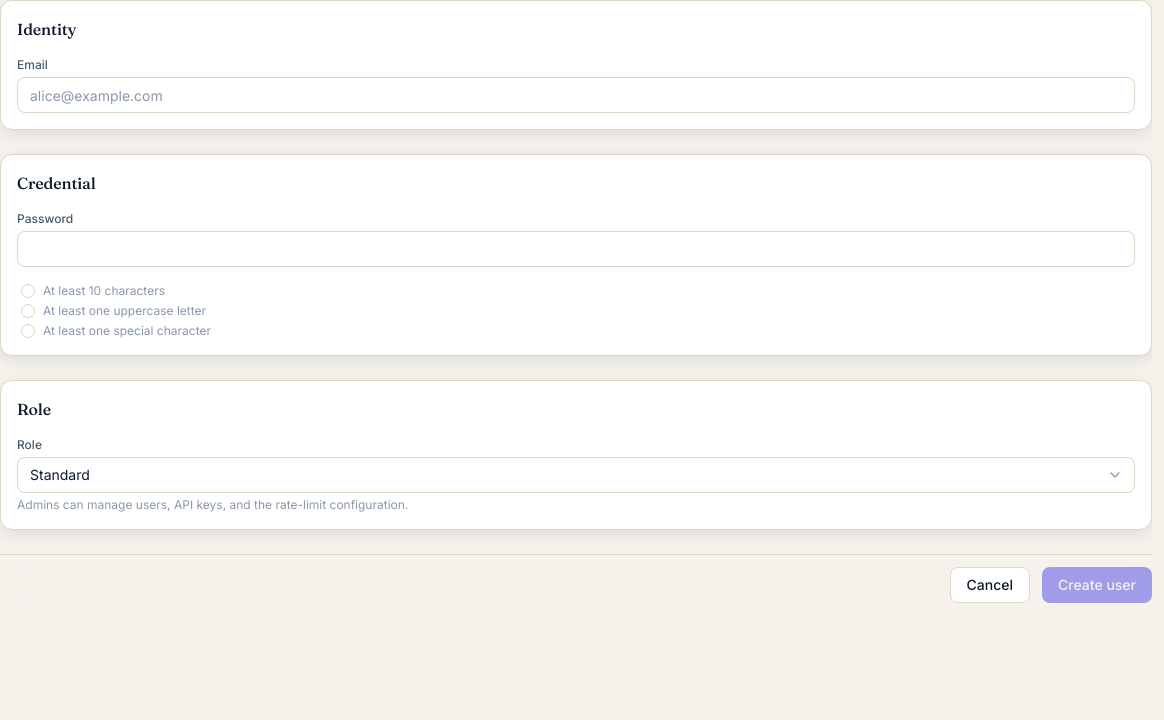
Scenario: UserForm › 400 VALIDATION_ERROR on password: maps server field message to the password input
This screenshot has width=1164, height=720.
Type "a@b.co" into the field labelled "Email" at coordinates (576, 95), box x1=17 y1=77 x2=1135 y2=113
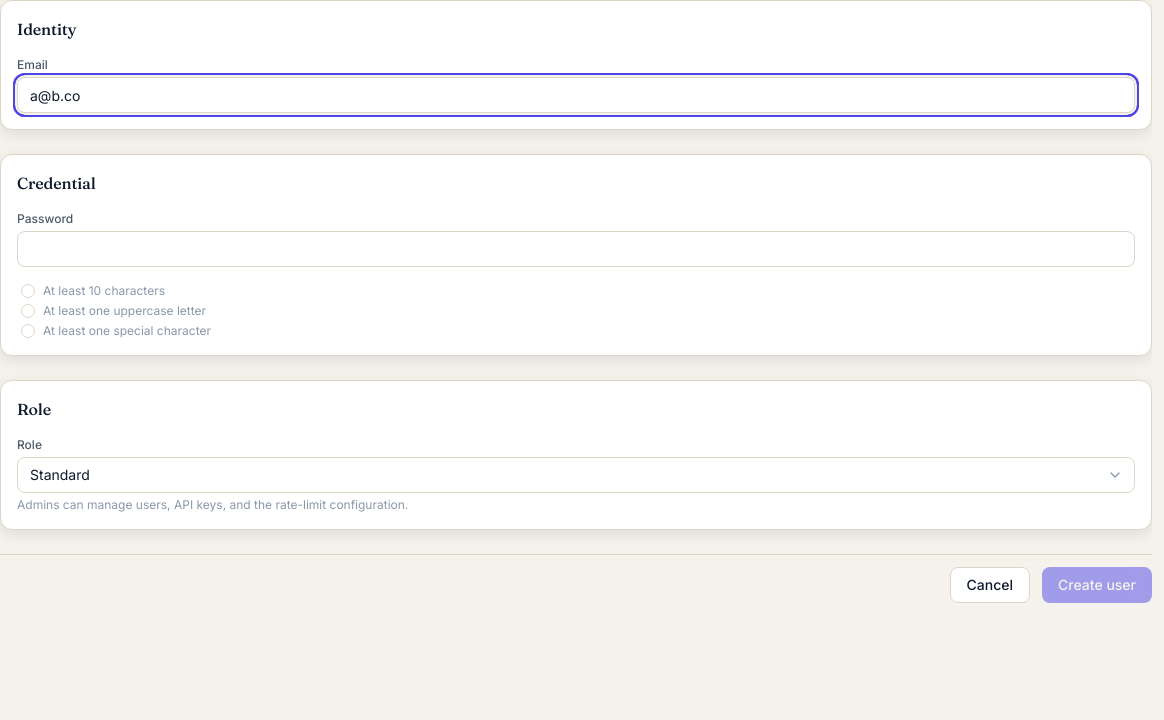
Type "AValid!Pw1" into the password field labelled "Password" at coordinates (576, 249), box x1=17 y1=231 x2=1135 y2=267
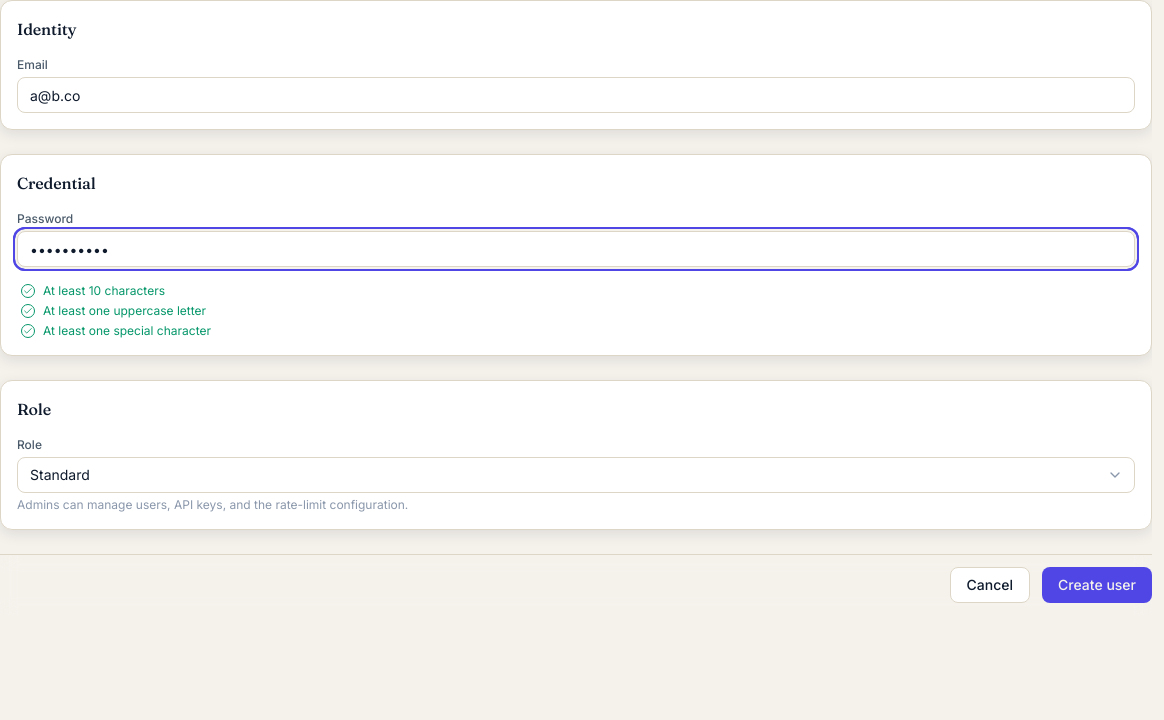
Click the button "Create user" at coordinates (1097, 585), box x1=1042 y1=567 x2=1152 y2=603
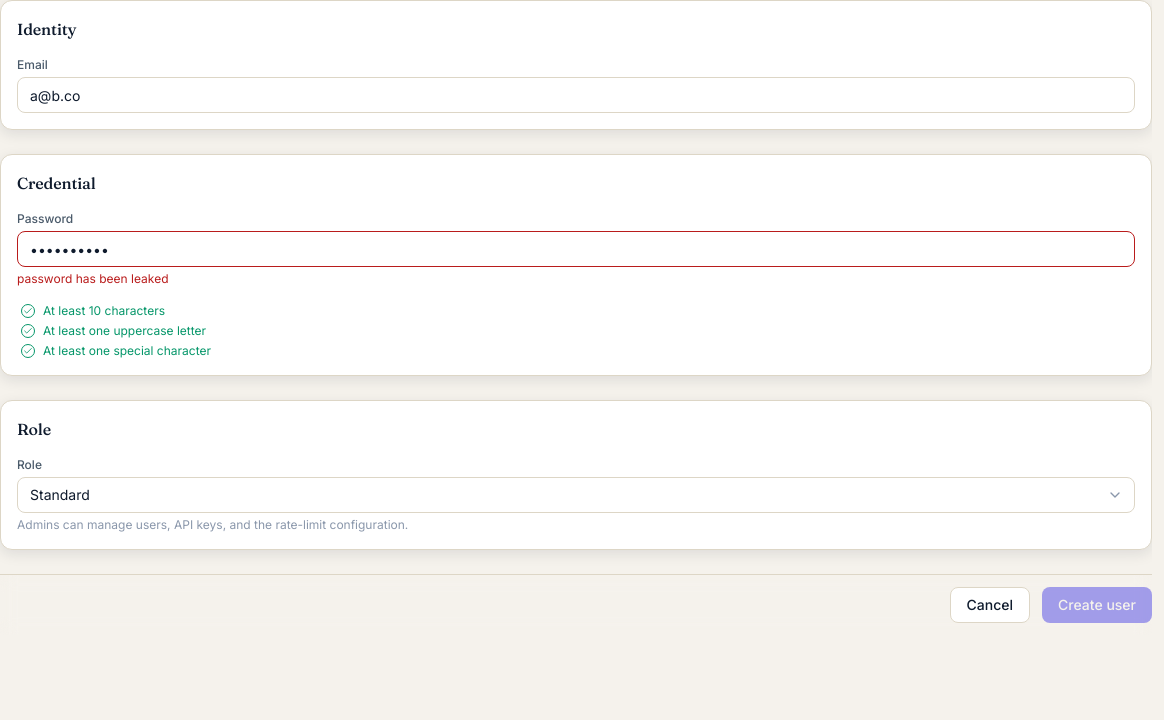
Expected: the text "password has been leaked" is shown, x1=17 y1=271 x2=168 y2=286
